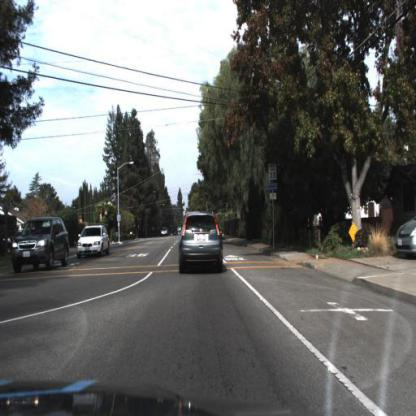car: (172, 200, 232, 288), (7, 211, 75, 282), (72, 221, 112, 265), (161, 225, 171, 239)
